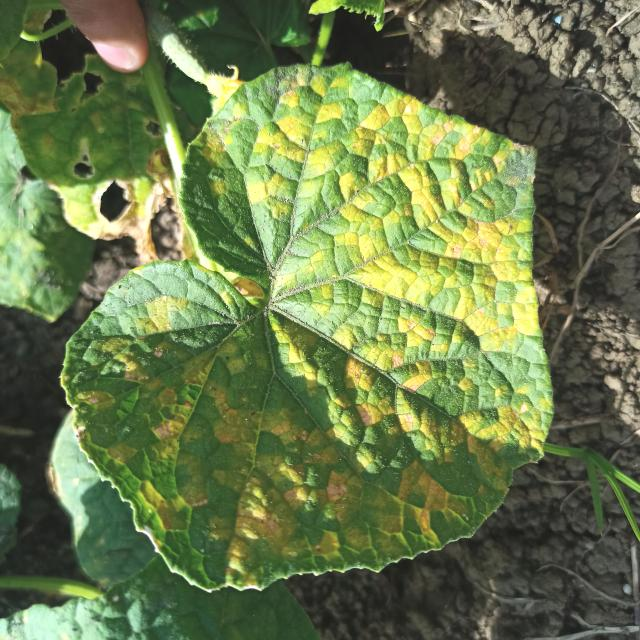disease_cucumber: (100, 77, 550, 579)
